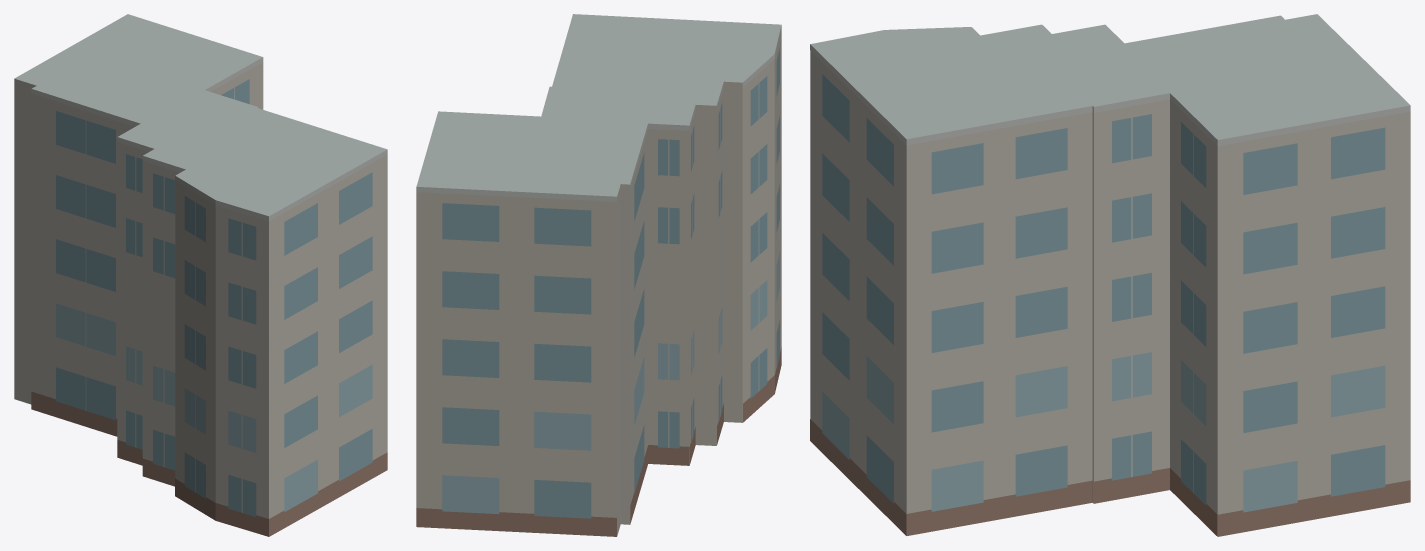
Rendered from survey-upis-32537370.glb.
3 renders of one model, left to right at view 1: azimuth 30°, elevation 25°; view 2: azimuth 150°, elevation 25°; view 3: azimuth 270°, elevation 25°, orthographic. The views are drawn at different scales.
Visible parts, largest first — view 1: survey-upis-32537370.tmp; view 2: survey-upis-32537370.tmp; view 3: survey-upis-32537370.tmp.
Part boxes in pixels (<box>): survey-upis-32537370.tmp: <box>14,14,387,536</box>; survey-upis-32537370.tmp: <box>416,14,781,536</box>; survey-upis-32537370.tmp: <box>810,14,1410,536</box>.
Size of the model in its own units: 10.71 by 15.7 by 21.54.
